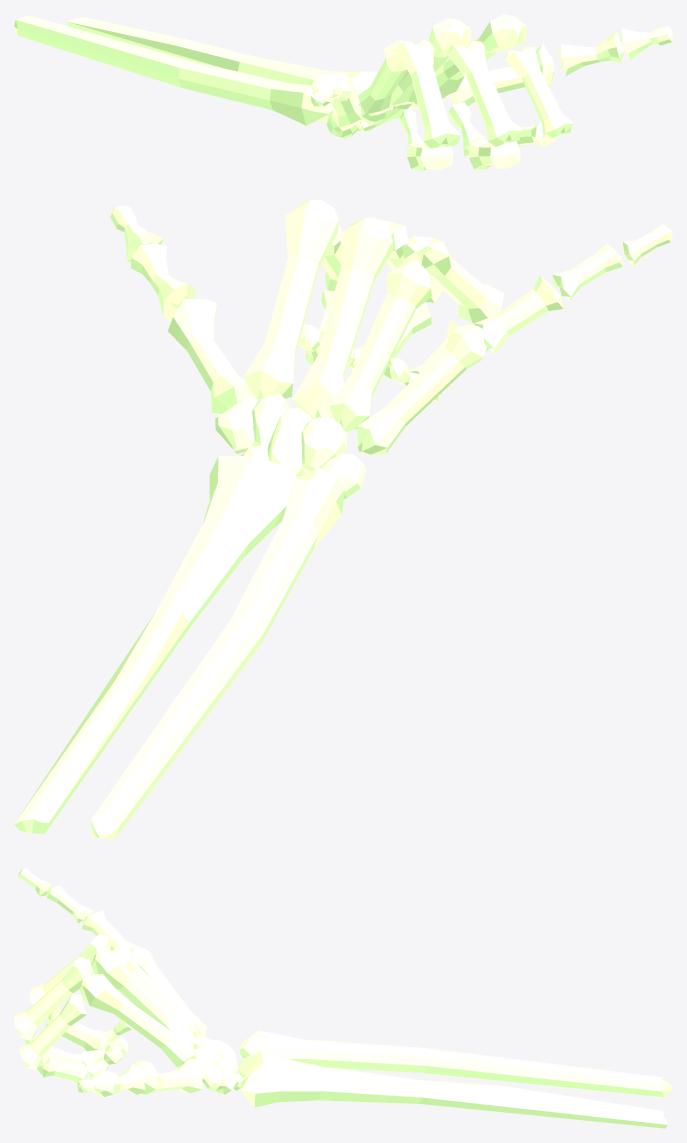
Rendered from hand pose 3.fbx.
3 views of the same model, one above another, from view 1: azimuth 30°, elevation 25°; view 2: azimuth 150°, elevation 25°; view 3: azimuth 270°, elevation 25° (orthographic). The views are drawn at different scales.
Visible parts, largest first — view 1: Cube.017; view 2: Cube.017; view 3: Cube.017.
Boxes of the visible parts, x1,y1,x2,y2 form: Cube.017: [14, 14, 672, 170]; Cube.017: [14, 199, 672, 839]; Cube.017: [14, 868, 672, 1128].
Bounding box in the file's own units: 171 × 95.99 × 281.
